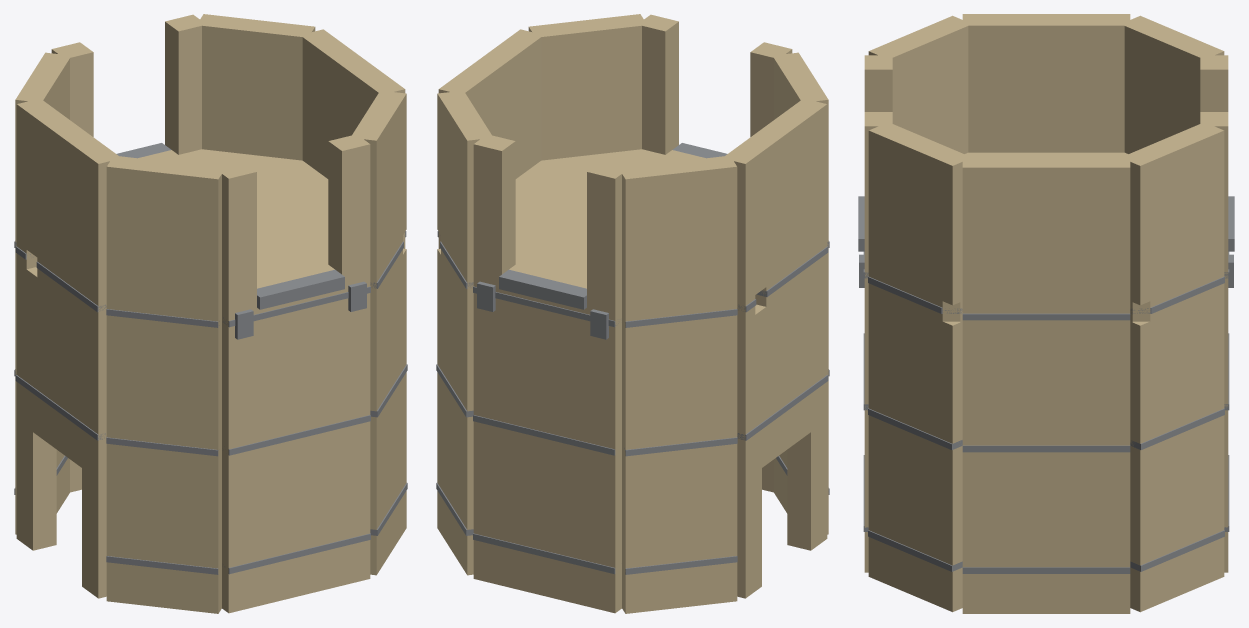
File: tower-base-b4.glb
3 views of the same model, side by side, from view 1: azimuth 30°, elevation 25°; view 2: azimuth 150°, elevation 25°; view 3: azimuth 270°, elevation 25° (orthographic). The views are drawn at different scales.
Visible parts, largest first — view 1: Mesh_LimestoneStructure, Mesh_PocketedMasonry_1, Mesh_PocketedMasonry_4, Mesh_PocketedMasonry_6, Mesh_PocketedMasonry_3, Mesh_DarkStoneCourses, Mesh_DoorSill_PlusZ, Mesh_PocketedMasonry_5; view 2: Mesh_LimestoneStructure, Mesh_PocketedMasonry_6, Mesh_PocketedMasonry_4, Mesh_PocketedMasonry_1, Mesh_PocketedMasonry_3, Mesh_DarkStoneCourses, Mesh_DoorSill_MinusZ, Mesh_PocketedMasonry_5; view 3: Mesh_LimestoneStructure, Mesh_PocketedMasonry_6, Mesh_PocketedMasonry_1, Mesh_PocketedMasonry_4, Mesh_DarkStoneCourses, Mesh_PocketedMasonry_3, Mesh_PocketedMasonry_7, Mesh_PocketedMasonry_2.
Boxes of the visible parts, bbox=[...] form: Mesh_LimestoneStructure: bbox=[15, 14, 405, 613]; Mesh_PocketedMasonry_1: bbox=[350, 90, 406, 575]; Mesh_PocketedMasonry_4: bbox=[33, 110, 105, 467]; Mesh_PocketedMasonry_6: bbox=[197, 14, 315, 160]; Mesh_PocketedMasonry_3: bbox=[16, 98, 56, 550]; Mesh_DarkStoneCourses: bbox=[14, 231, 407, 574]; Mesh_DoorSill_PlusZ: bbox=[257, 269, 344, 309]; Mesh_PocketedMasonry_5: bbox=[15, 246, 106, 312]; Mesh_LimestoneStructure: bbox=[438, 14, 828, 613]; Mesh_PocketedMasonry_6: bbox=[437, 90, 493, 575]; Mesh_PocketedMasonry_4: bbox=[738, 110, 810, 467]; Mesh_PocketedMasonry_1: bbox=[528, 14, 646, 160]; Mesh_PocketedMasonry_3: bbox=[723, 146, 761, 598]; Mesh_DarkStoneCourses: bbox=[436, 231, 829, 574]; Mesh_DoorSill_MinusZ: bbox=[499, 269, 586, 309]; Mesh_PocketedMasonry_5: bbox=[737, 246, 828, 312]; Mesh_LimestoneStructure: bbox=[864, 14, 1228, 613]; Mesh_PocketedMasonry_6: bbox=[1121, 122, 1224, 612]; Mesh_PocketedMasonry_1: bbox=[868, 122, 971, 612]; Mesh_PocketedMasonry_4: bbox=[996, 14, 1096, 152]; Mesh_DarkStoneCourses: bbox=[859, 251, 1233, 573]; Mesh_PocketedMasonry_3: bbox=[1097, 14, 1130, 152]; Mesh_PocketedMasonry_7: bbox=[1130, 276, 1224, 314]; Mesh_PocketedMasonry_2: bbox=[868, 276, 962, 313].
Size of the model in its own units: 6.54 by 8.8 by 6.72.
